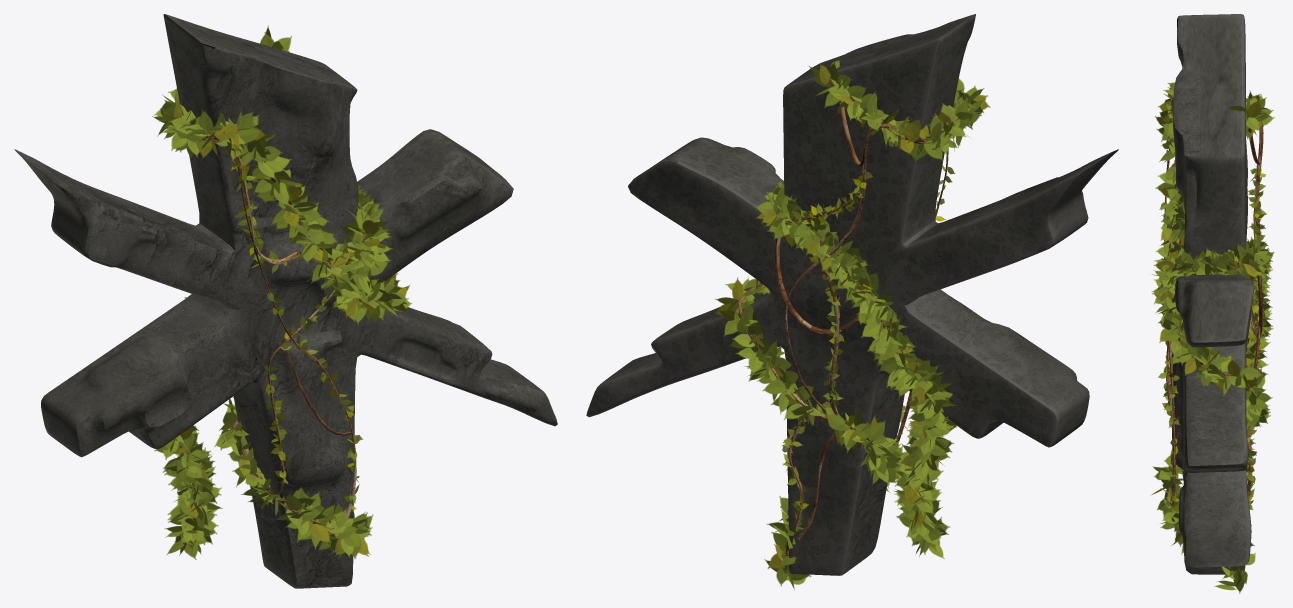
Rendered from star-old.glb.
The picture shows the model from 3 angles, left to right: view 1: azimuth 30°, elevation 25°; view 2: azimuth 150°, elevation 25°; view 3: azimuth 270°, elevation 25°; orthographic projection. The views are drawn at different scales.
Parts seen in each view (by area): view 1: Rock, FLMain02, FLMain01, FLsec, Main02; view 2: Rock, FLMain02, FLMain01, Main02, FLsec; view 3: Rock, FLMain02, FLMain01, FLsec, Main02.
Part boxes in pixels (x1=…): Rock: x1=14, y1=14, x2=557, y2=588; FLMain02: x1=152, y1=25, x2=412, y2=558; FLMain01: x1=154, y1=184, x2=392, y2=559; FLsec: x1=193, y1=132, x2=363, y2=539; Main02: x1=179, y1=133, x2=366, y2=534; Rock: x1=586, y1=14, x2=1118, y2=575; FLMain02: x1=714, y1=60, x2=990, y2=590; FLMain01: x1=755, y1=180, x2=957, y2=558; Main02: x1=737, y1=79, x2=968, y2=556; FLsec: x1=781, y1=107, x2=969, y2=546; Rock: x1=1172, y1=14, x2=1254, y2=574; FLMain02: x1=1151, y1=82, x2=1274, y2=593; FLMain01: x1=1151, y1=236, x2=1274, y2=468; FLsec: x1=1158, y1=138, x2=1270, y2=525; Main02: x1=1164, y1=118, x2=1263, y2=571.
Bounding box in the file's own units: 3.67 × 4.15 × 0.9596.
Materials: 4 (4 with a texture image).
